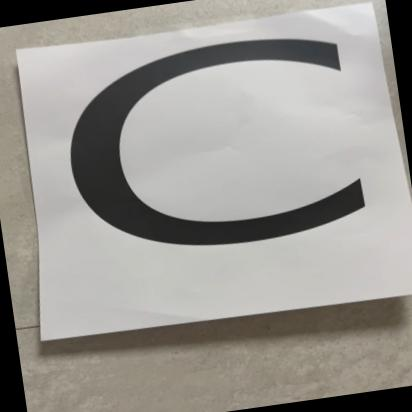seat: (8, 0, 412, 347)
